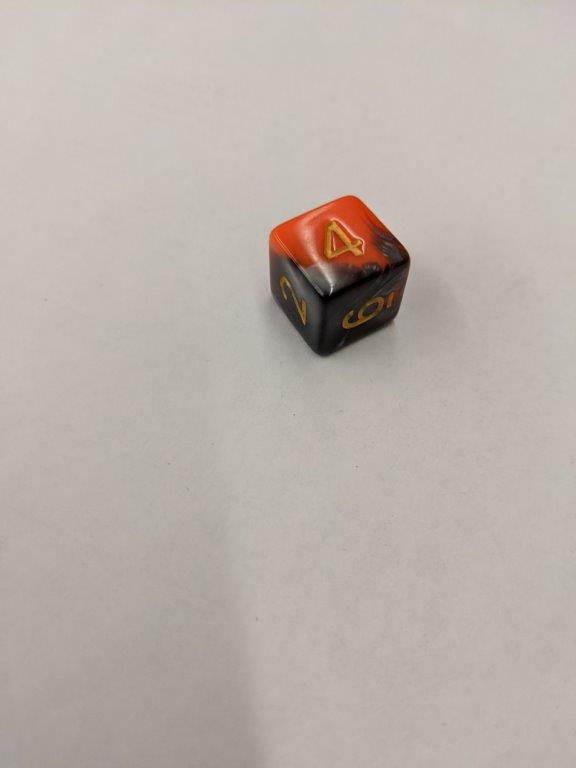d6-4: (265, 194, 412, 356)
